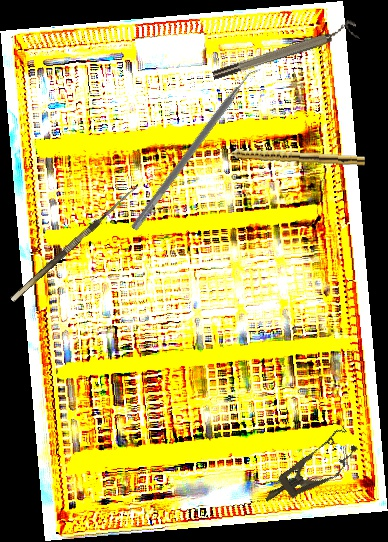Fixation Ring: (209, 18, 360, 83)
Handpiece: (214, 145, 366, 166)
Hook Surgical: (3, 176, 142, 303)
Spatula Surgical: (130, 60, 265, 237)
Speculum: (254, 424, 365, 517)
